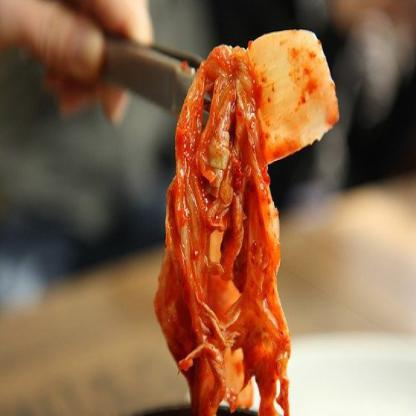kimchi: (167, 17, 341, 415)
